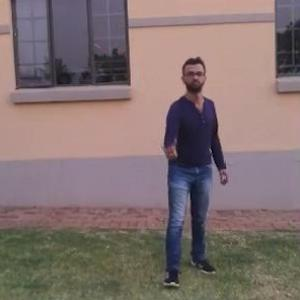takeoff-hand: (156, 132, 185, 168)
